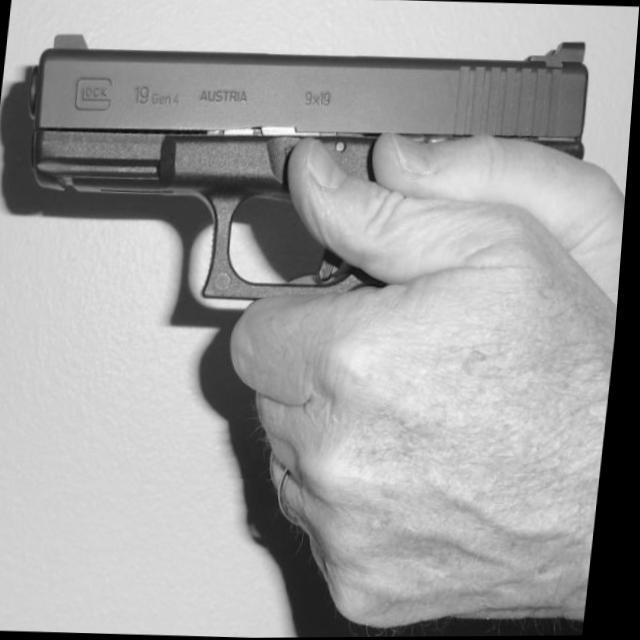weapon: (8, 21, 598, 314)
